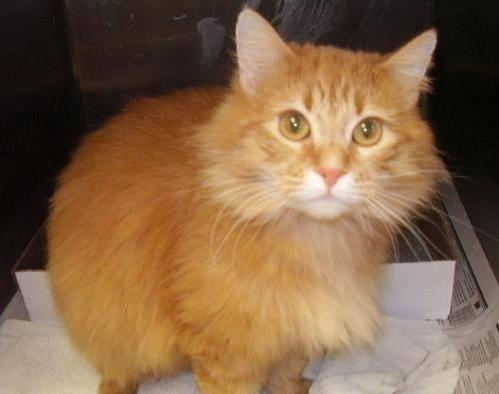cat: (48, 7, 448, 393)
